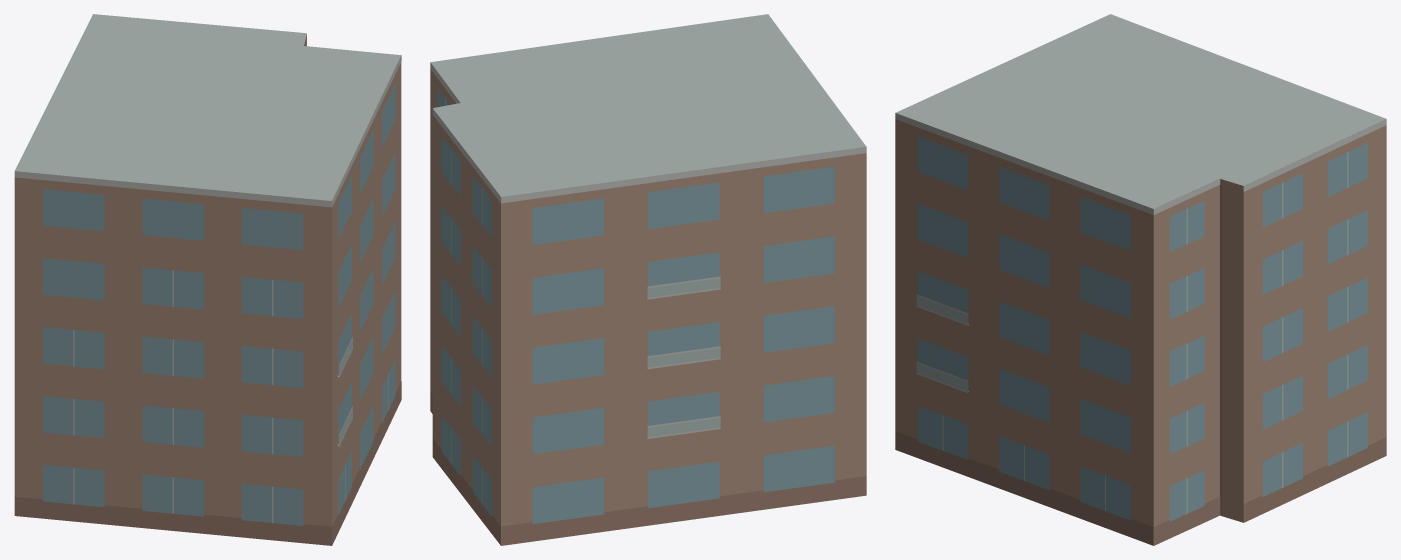
Rendered from survey-upis-32682936.glb.
3 renders of one model, left to right at view 1: azimuth 30°, elevation 25°; view 2: azimuth 150°, elevation 25°; view 3: azimuth 270°, elevation 25°, orthographic. The views are drawn at different scales.
Parts seen in each view (by area): view 1: survey-upis-32682936.tmp; view 2: survey-upis-32682936.tmp; view 3: survey-upis-32682936.tmp.
Boxes of the visible parts, left/top/right/bottom form: survey-upis-32682936.tmp: left=14, top=14, right=401, bottom=545; survey-upis-32682936.tmp: left=430, top=14, right=866, bottom=545; survey-upis-32682936.tmp: left=895, top=14, right=1386, bottom=545.
Size of the model in its own units: 16.64 by 13.4 by 17.72.
